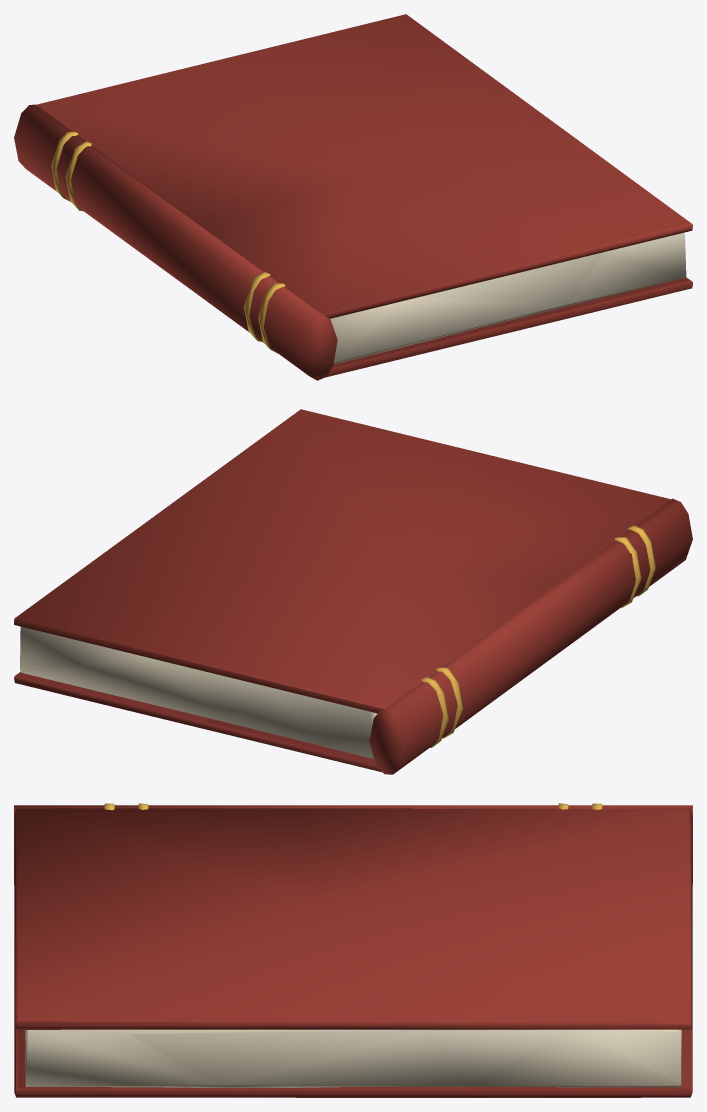
The model's file is frost_book_red_lod2.glb.
3 views of the same model, one above another, from view 1: azimuth 30°, elevation 25°; view 2: azimuth 150°, elevation 25°; view 3: azimuth 270°, elevation 25° (orthographic). The views are drawn at different scales.
Parts seen in each view (by area): view 1: frost_book_red.001; view 2: frost_book_red.001; view 3: frost_book_red.001.
Boxes of the visible parts, x1,y1,x2,y2 form: frost_book_red.001: (14, 14, 692, 380); frost_book_red.001: (14, 409, 692, 774); frost_book_red.001: (14, 803, 692, 1097).
Size of the model in its own units: 18.99 by 3.13 by 24.05.
